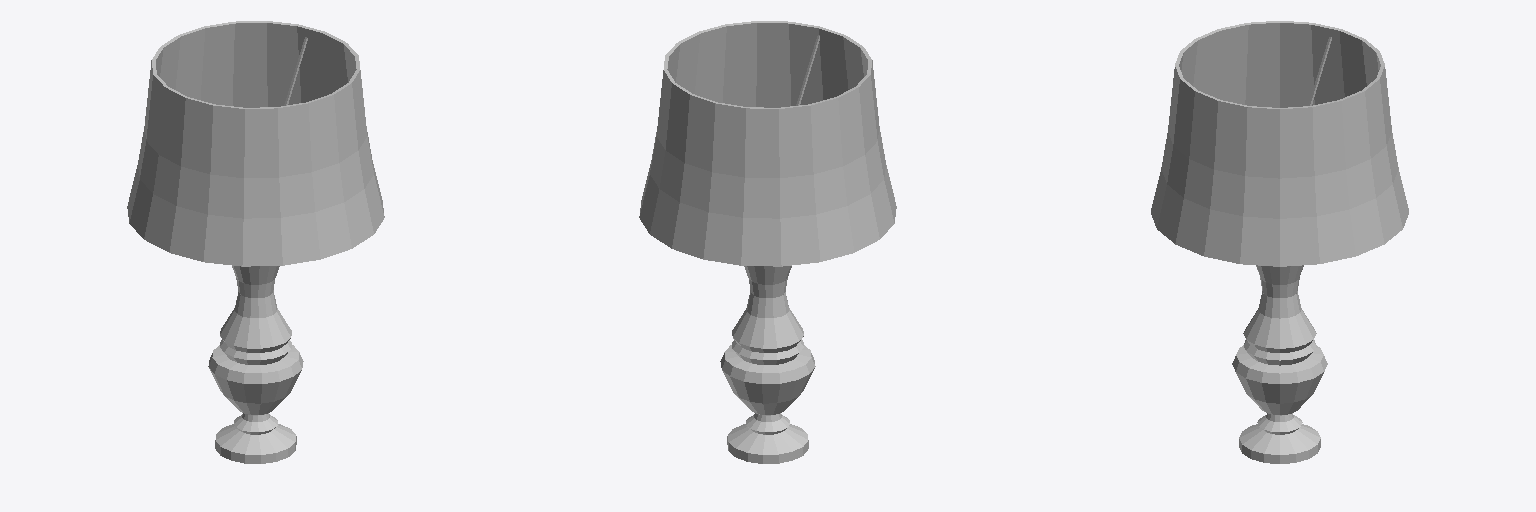
Rendered from lamp_table.obj.
3 renders of one model, left to right at view 1: azimuth 30°, elevation 25°; view 2: azimuth 150°, elevation 25°; view 3: azimuth 270°, elevation 25°, orthographic.
Parts seen in each view (by area): view 1: eb_lamp_01.001; view 2: eb_lamp_01.001; view 3: eb_lamp_01.001.
Part boxes in pixels (left/top/right/bottom): eb_lamp_01.001: left=127, top=21, right=384, bottom=463; eb_lamp_01.001: left=639, top=21, right=896, bottom=463; eb_lamp_01.001: left=1151, top=21, right=1408, bottom=463.
Bounding box in the file's own units: 9.56 × 15.57 × 9.56.